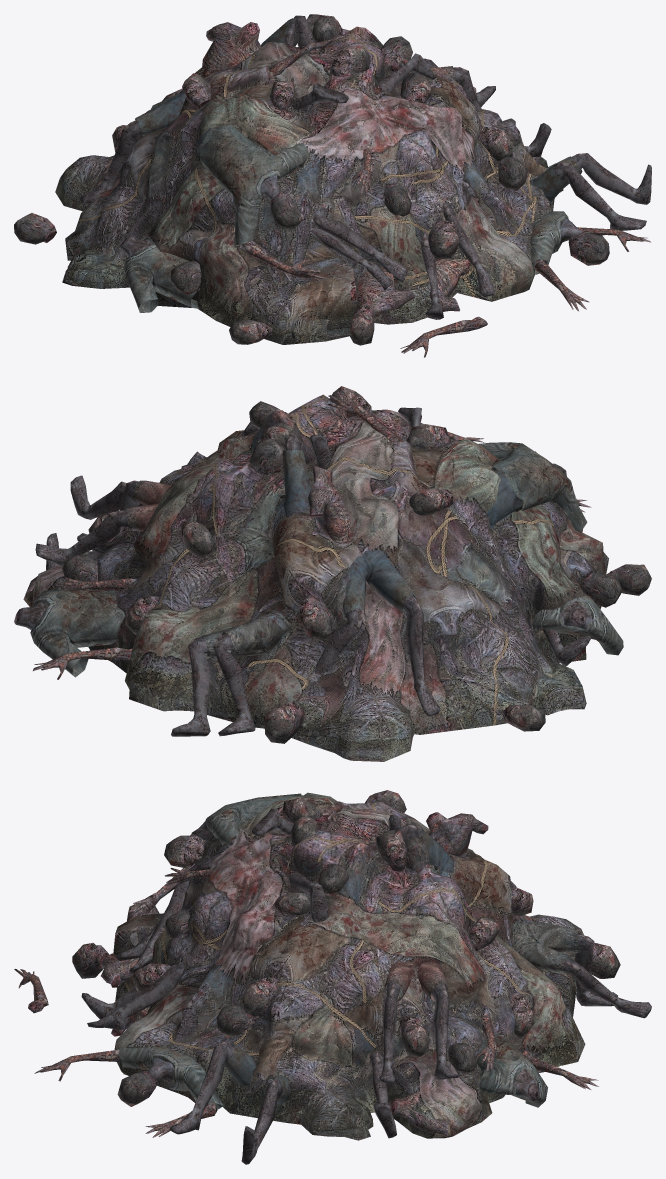
The model's file is CorpseSet.fbx.
3 views of the same model, one above another, from view 1: azimuth 30°, elevation 25°; view 2: azimuth 150°, elevation 25°; view 3: azimuth 270°, elevation 25° (orthographic). The views are drawn at different scales.
Visible parts, largest first — view 1: LV_Common_Object_CorpseSet01_SM_NWCSTE; view 2: LV_Common_Object_CorpseSet01_SM_NWCSTE; view 3: LV_Common_Object_CorpseSet01_SM_NWCSTE.
Part boxes in pixels (x1,y1,x2,y2): LV_Common_Object_CorpseSet01_SM_NWCSTE: (14,14,651,357); LV_Common_Object_CorpseSet01_SM_NWCSTE: (14,386,651,761); LV_Common_Object_CorpseSet01_SM_NWCSTE: (14,790,651,1164).
Bounding box in the file's own units: 0.8381 × 0.3308 × 0.8362.
